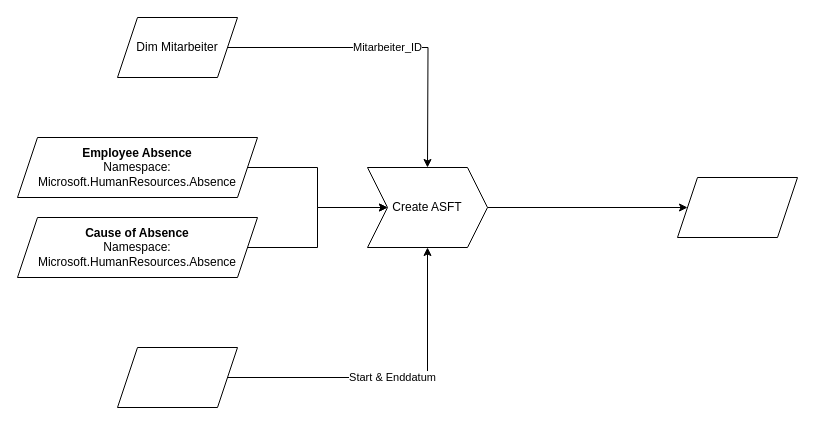
Some shapes in this 815 by 425 pixel diagram are drawn without their labels. The centre of each missing label's shape, as x and y in pixels:
ASFT: the point at 737,207
Dim Zeitpunk: the point at 177,377
